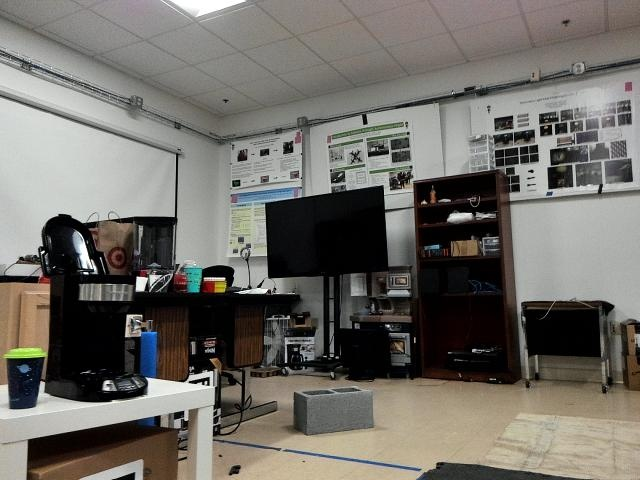coffee_cup: (184, 265, 202, 295)
noodle_handle: (138, 327, 160, 380)
useless_cup: (4, 346, 46, 408)
